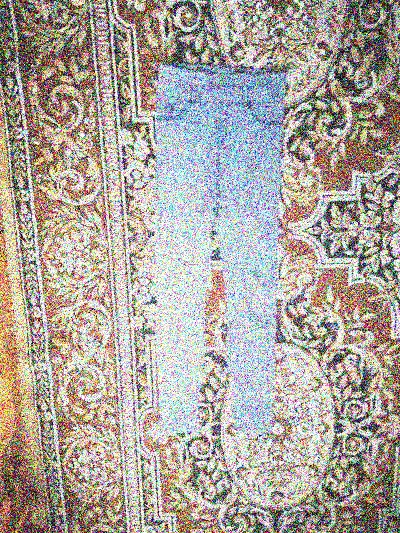Pants: (113, 33, 302, 424)
